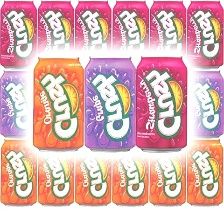can: (29, 51, 87, 154), (133, 52, 190, 155), (85, 55, 137, 154), (0, 136, 37, 209), (186, 0, 224, 71), (184, 69, 223, 138), (186, 137, 223, 208), (0, 0, 37, 68), (0, 71, 35, 137), (147, 152, 186, 211), (74, 148, 112, 207), (37, 150, 75, 208), (149, 0, 188, 56), (113, 0, 150, 58), (112, 153, 148, 209), (75, 0, 112, 54), (37, 0, 74, 53)
